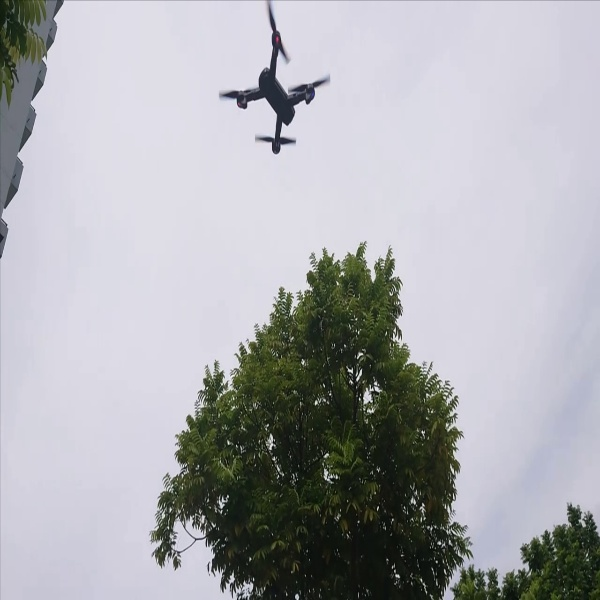drone: (203, 1, 338, 159)
